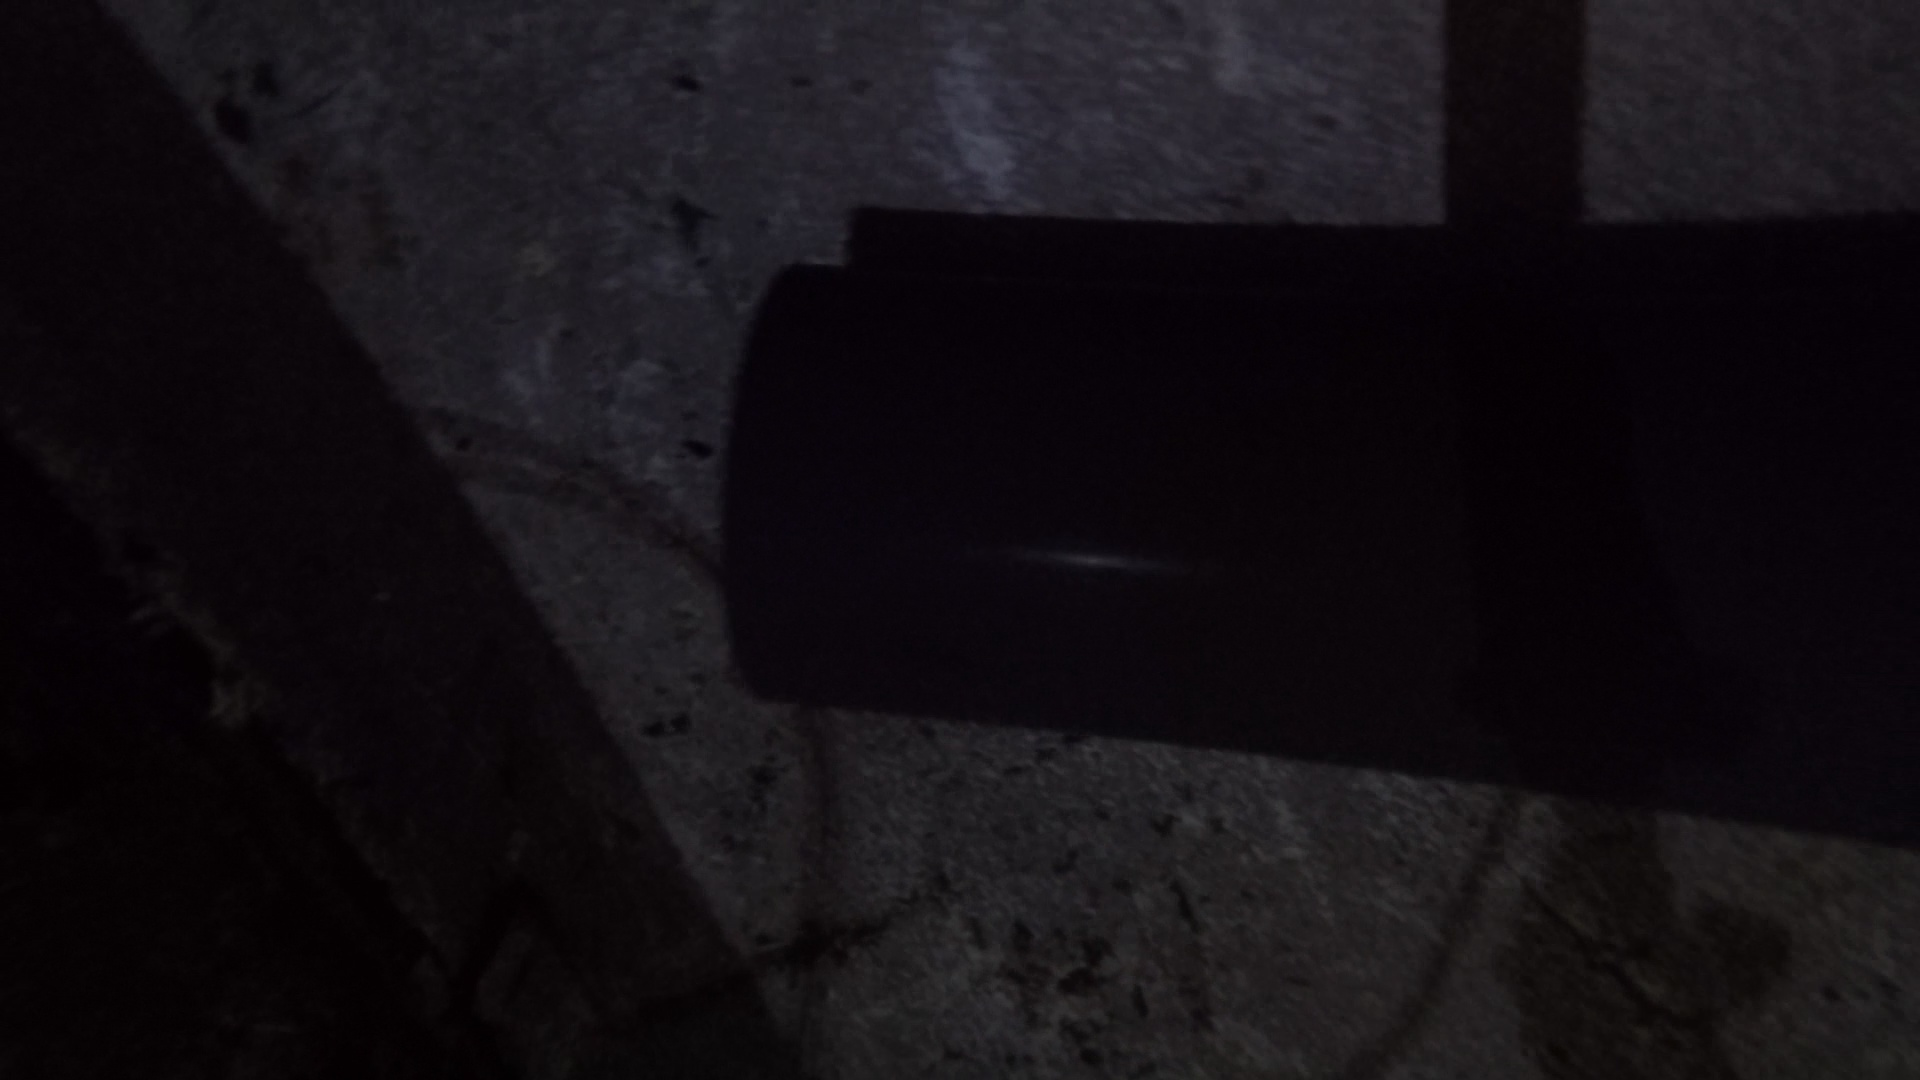pipe: (721, 258, 1920, 856)
